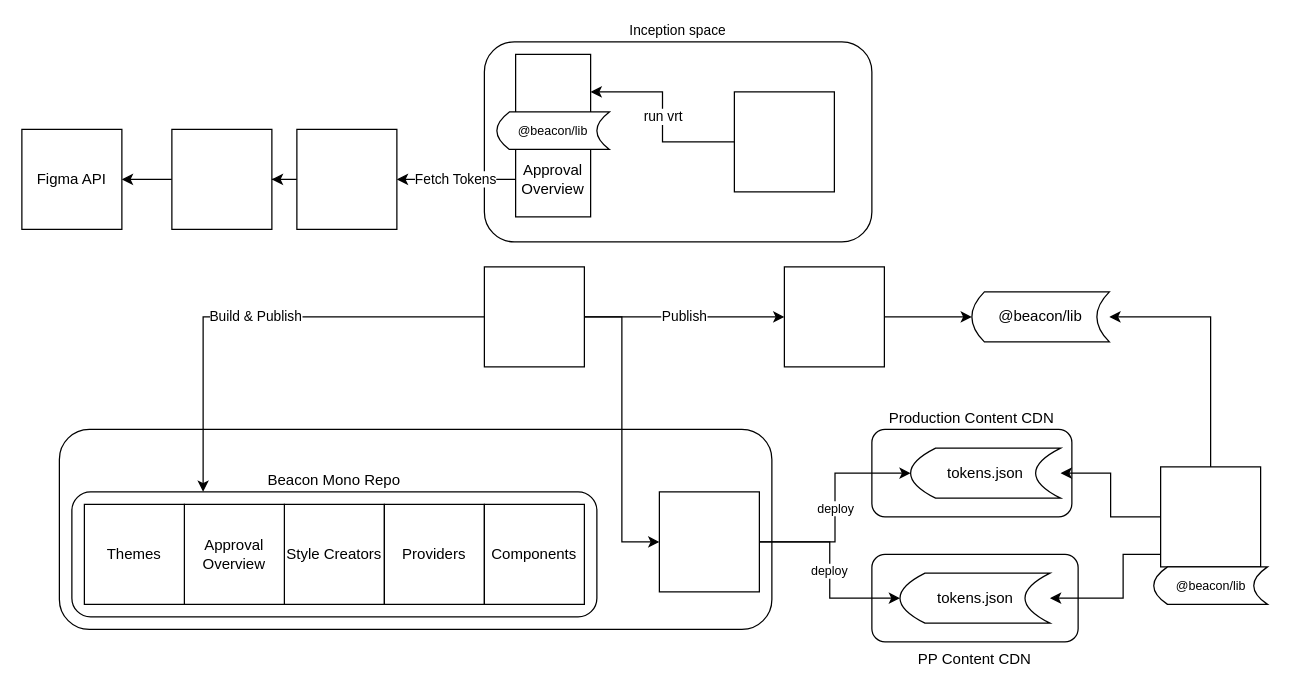
Some shapes in this 1290 by 689 pixel diagram are drawn without their labels. Here are the shapes that lost their labels. From the top down, the centre of each, then its label:
(x=552, y=91): Storybook
(x=783, y=141): VRT Tracker
(x=221, y=178): Token Service
(x=346, y=178): NGINX
(x=533, y=316): GoCD
(x=833, y=316): Artifactory
(x=1210, y=516): Unicorn
(x=708, y=541): Github-site-content
